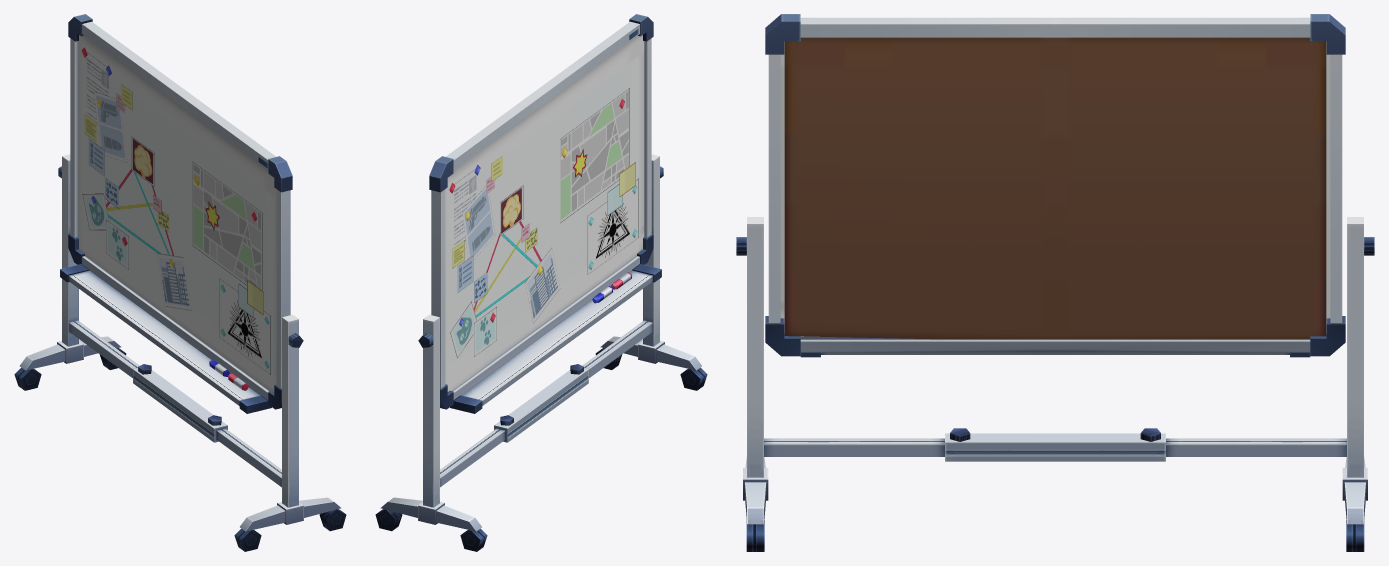
The model's file is my_abydosclassroom_01_whiteboard.glb.
3 renders of one model, left to right at view 1: azimuth 30°, elevation 25°; view 2: azimuth 150°, elevation 25°; view 3: azimuth 270°, elevation 25°, orthographic. The views are drawn at different scales.
Visible parts, largest first — view 1: my_abydosclassroom_01_whiteboard; view 2: my_abydosclassroom_01_whiteboard; view 3: my_abydosclassroom_01_whiteboard.
Part boxes in pixels (x1,y1,x2,y2): my_abydosclassroom_01_whiteboard: (14,14,346,551); my_abydosclassroom_01_whiteboard: (375,14,707,551); my_abydosclassroom_01_whiteboard: (736,14,1374,551).
Bounding box in the file's own units: 0.00442 × 0.0148 × 0.017.
1 material, 1 textured.
